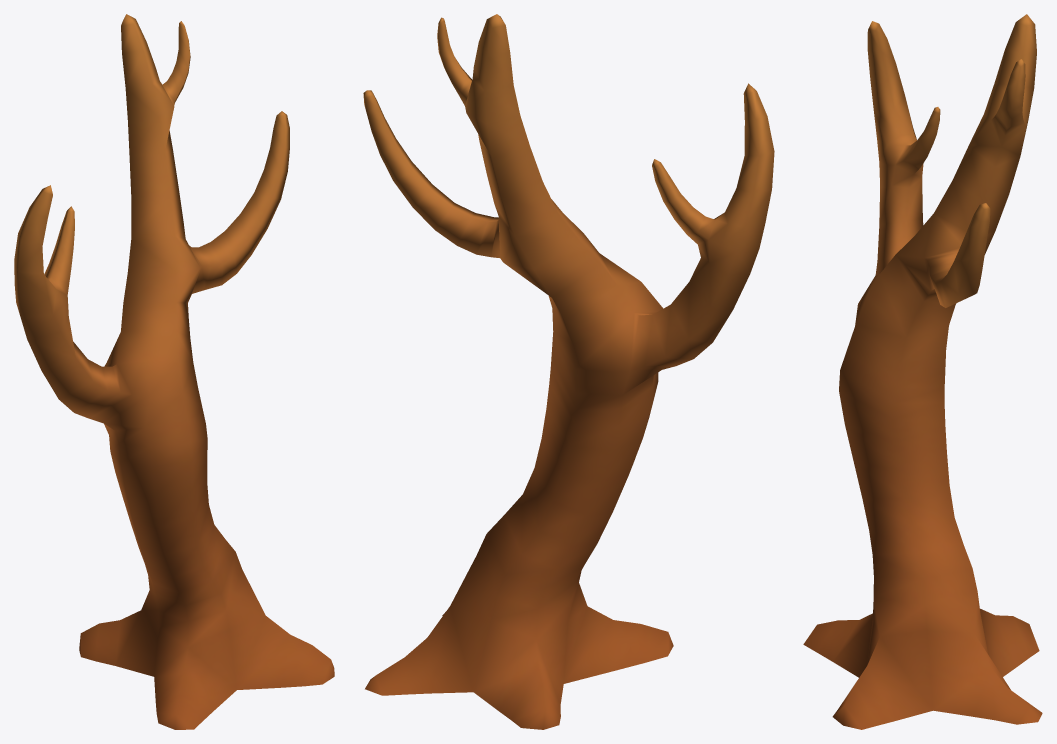
The model's file is ArabianTree_S_01.fbx.
The picture shows the model from 3 angles, left to right: view 1: azimuth 30°, elevation 25°; view 2: azimuth 150°, elevation 25°; view 3: azimuth 270°, elevation 25°; orthographic projection. The views are drawn at different scales.
Parts seen in each view (by area): view 1: ArabianTree_S_01; view 2: ArabianTree_S_01; view 3: ArabianTree_S_01.
Boxes of the visible parts, box(x1,y1,x2,y2) form: ArabianTree_S_01: box(14, 14, 334, 729); ArabianTree_S_01: box(363, 14, 774, 729); ArabianTree_S_01: box(803, 14, 1042, 729).
Bounding box in the file's own units: 283 × 532 × 177.
